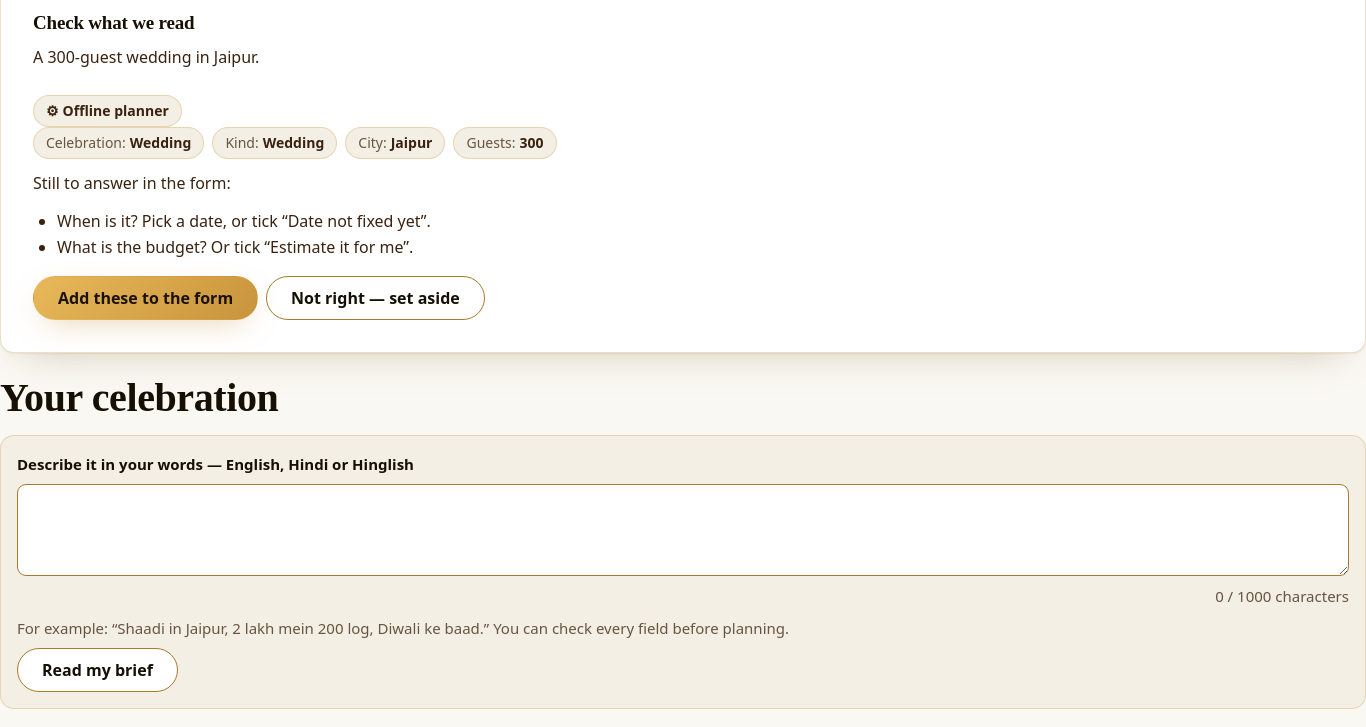
Test: BriefReview › hands focus to the first question still open after confirming
Click the button "Add these to the form" at (146, 298), box [33,276,258,320]
(page scrolled)
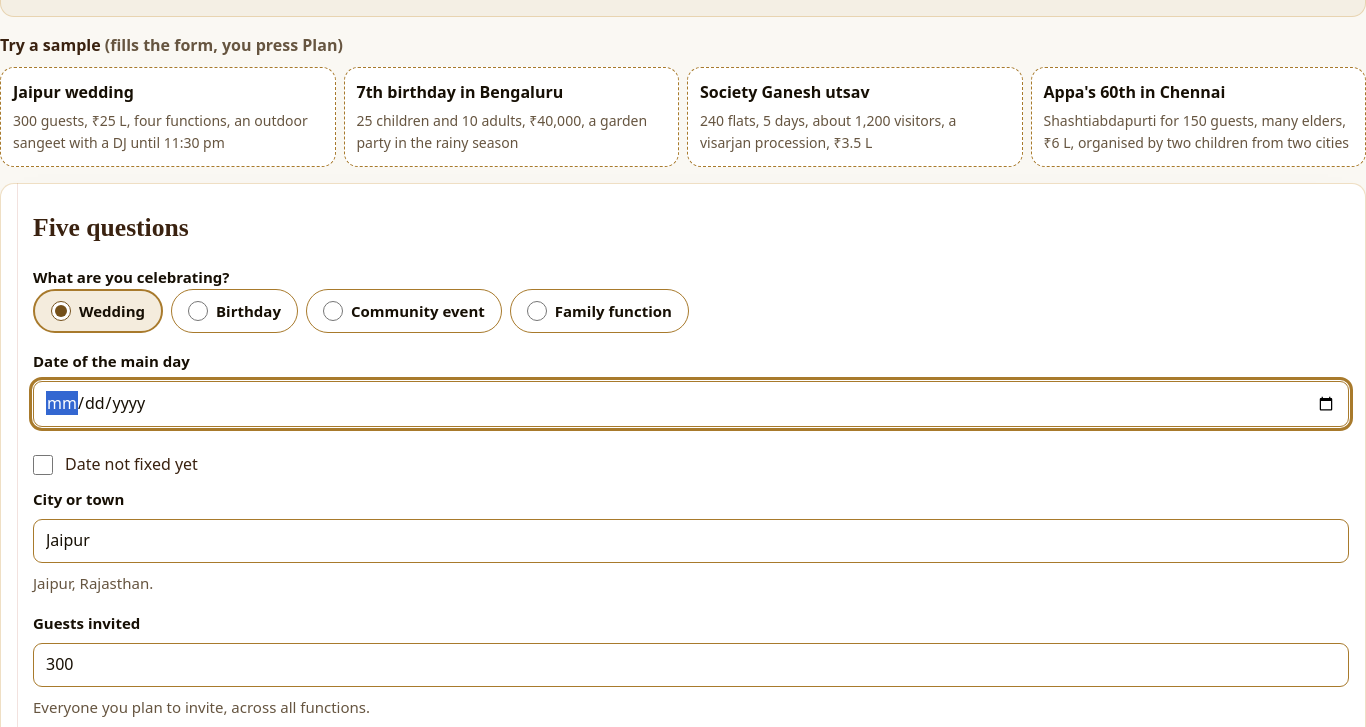
Check: the heading "Check what we read" is gone
